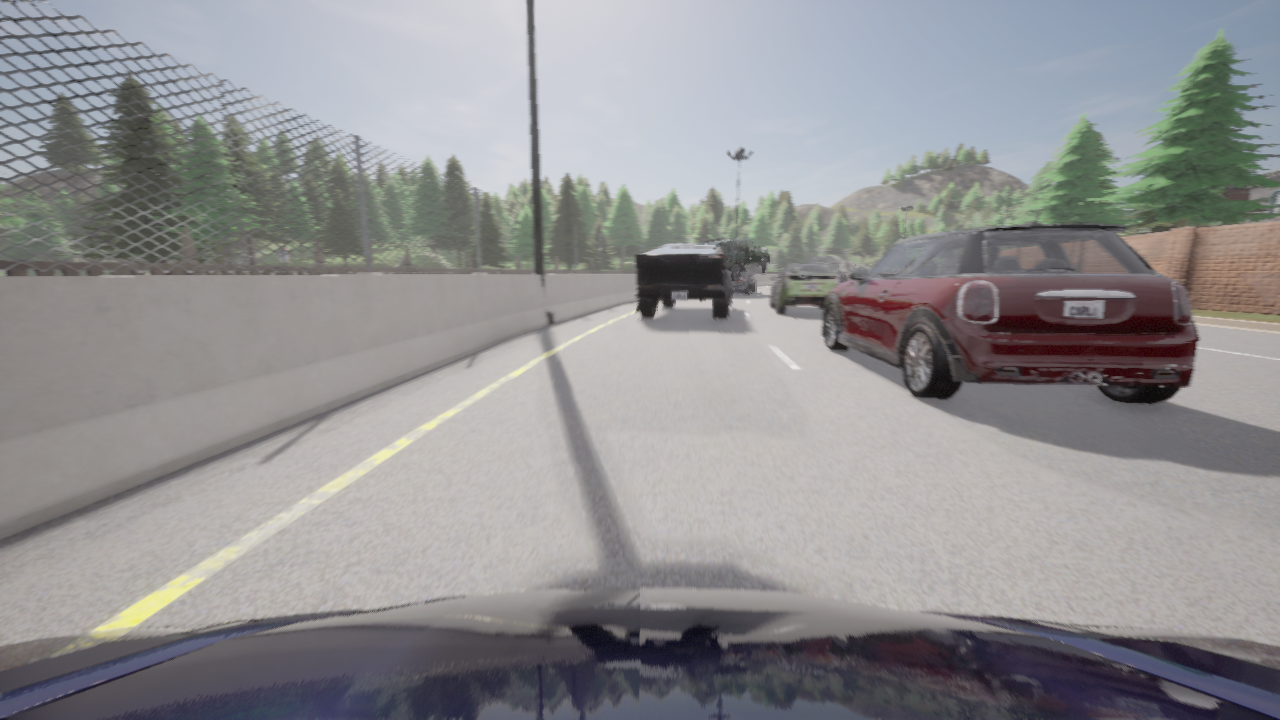cyclist: (0, 588, 1279, 719), (822, 211, 1198, 403), (636, 244, 732, 319), (770, 263, 839, 313), (702, 238, 771, 281), (731, 270, 755, 294), (835, 271, 847, 281)
